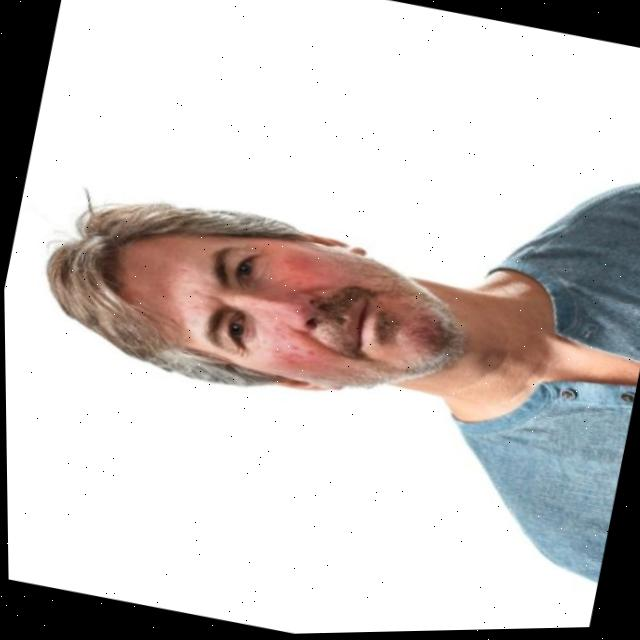Rosacea: (267, 332, 324, 377), (274, 244, 324, 291)
